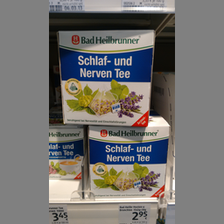tea: (57, 28, 155, 126), (87, 123, 169, 197)
